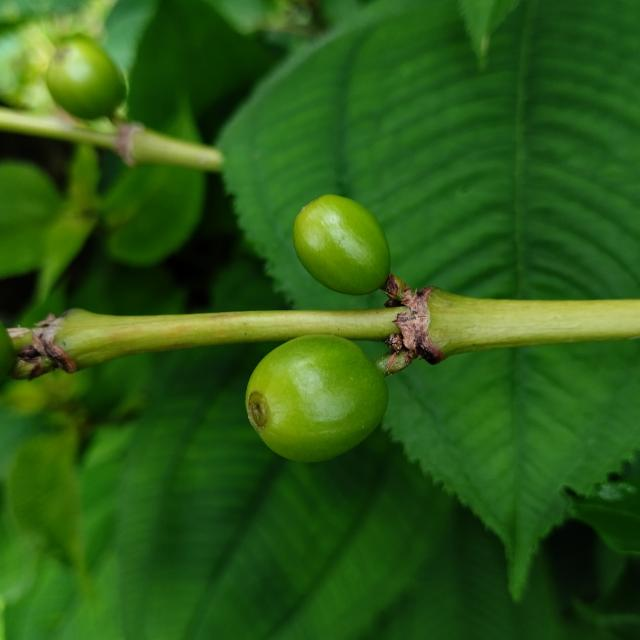green: (245, 335, 389, 463), (293, 194, 391, 295)
